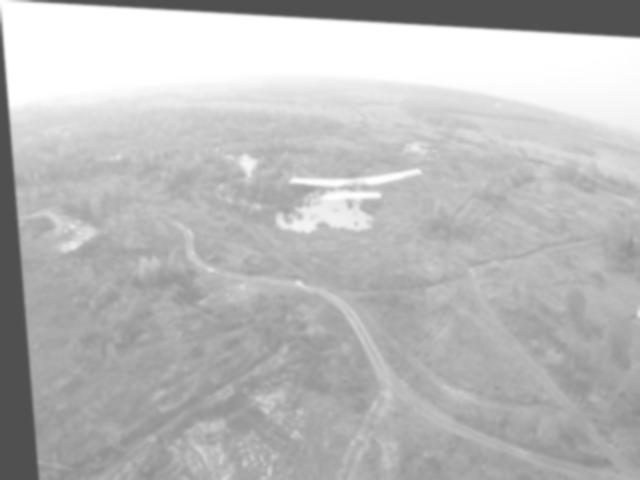hedef: (281, 146, 427, 219)
